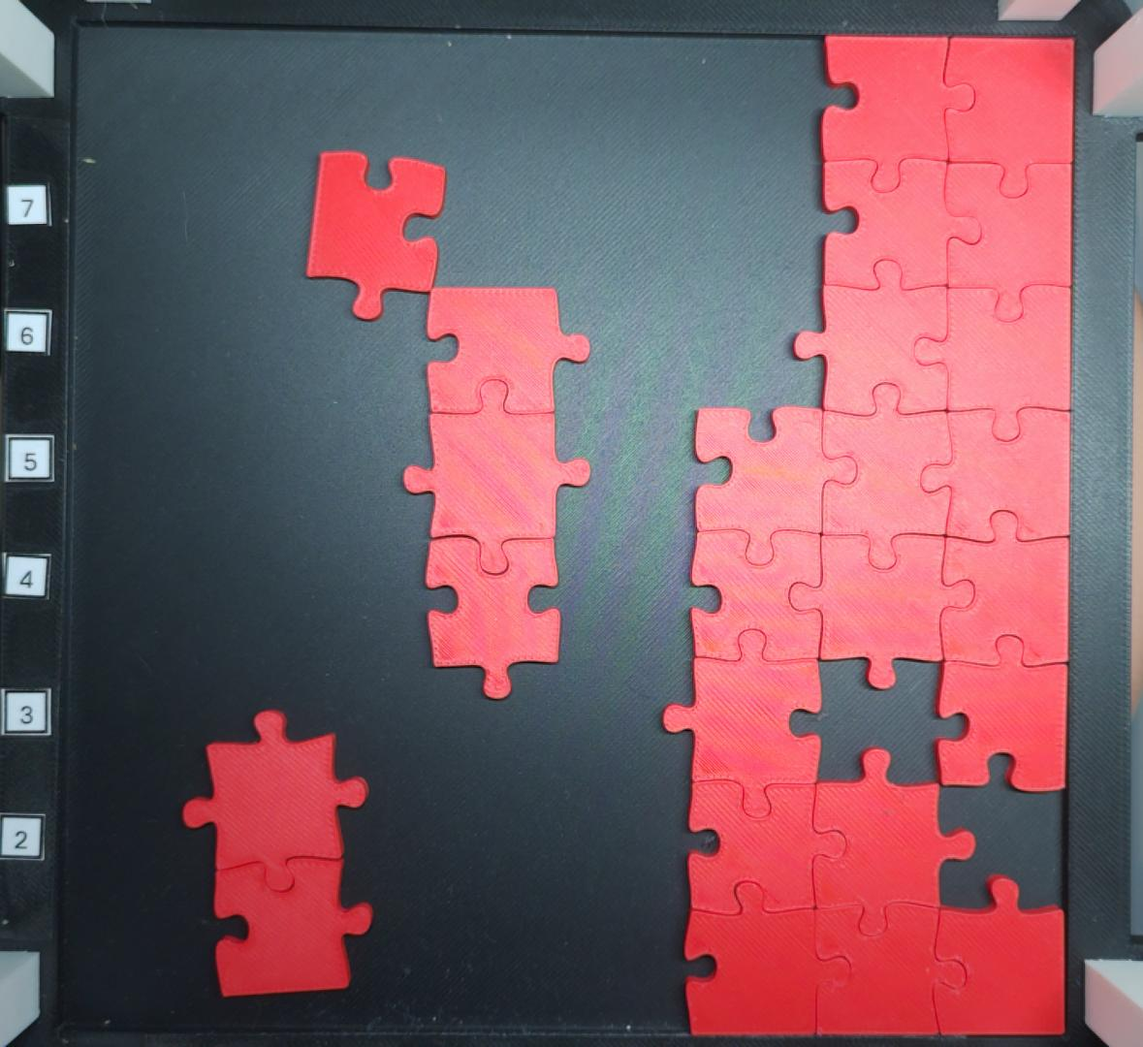p_1: (306, 143, 444, 320)
p_2: (183, 709, 374, 998)
p_3: (401, 287, 589, 703)
p_m: (662, 35, 1073, 1034)
